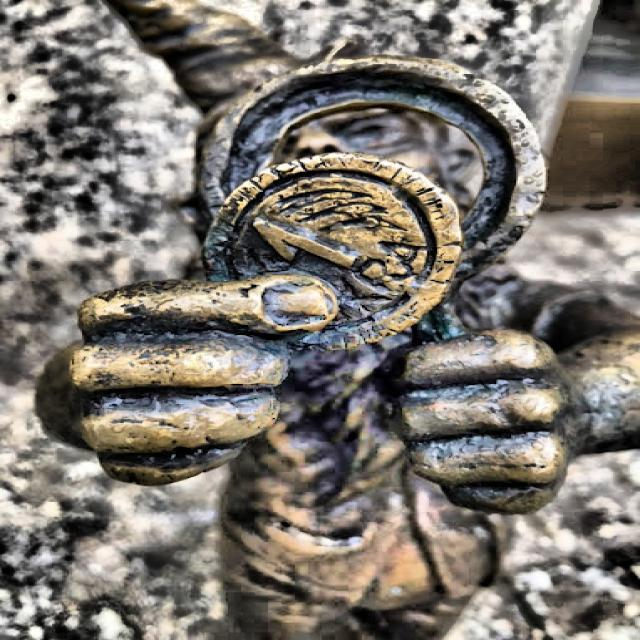Kolekcjoner: (37, 0, 637, 639)
